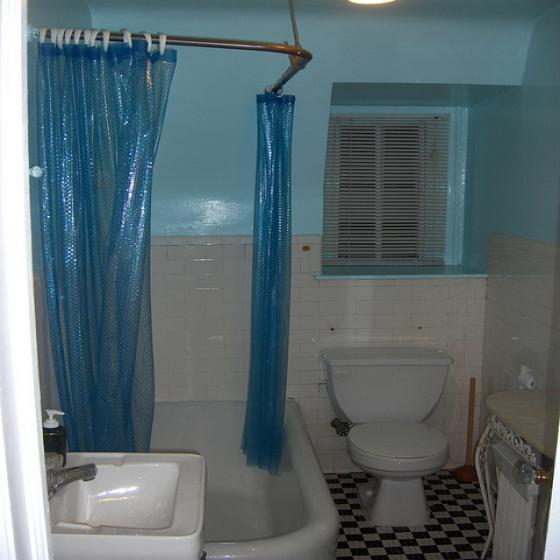bottle: (44, 408, 67, 468)
sink: (55, 452, 206, 552)
toilet: (321, 346, 453, 526)
